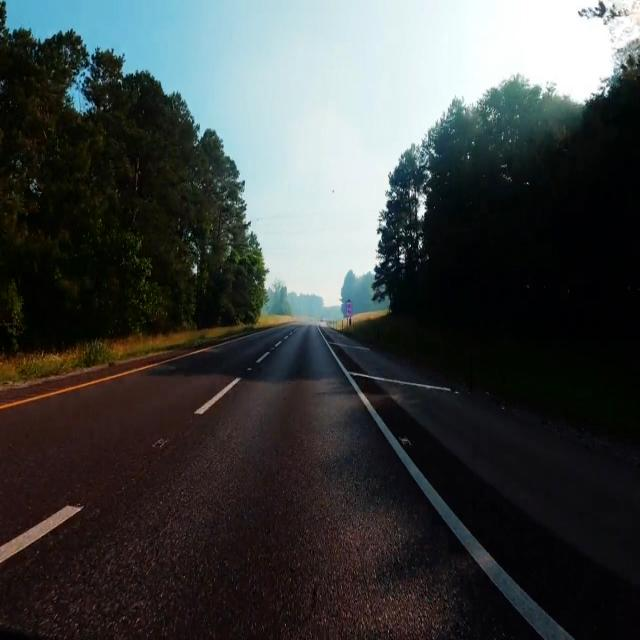lane: (318, 327, 574, 640), (0, 346, 221, 411), (0, 504, 81, 561), (196, 378, 240, 412), (256, 351, 270, 361)
road: (0, 324, 535, 637)
